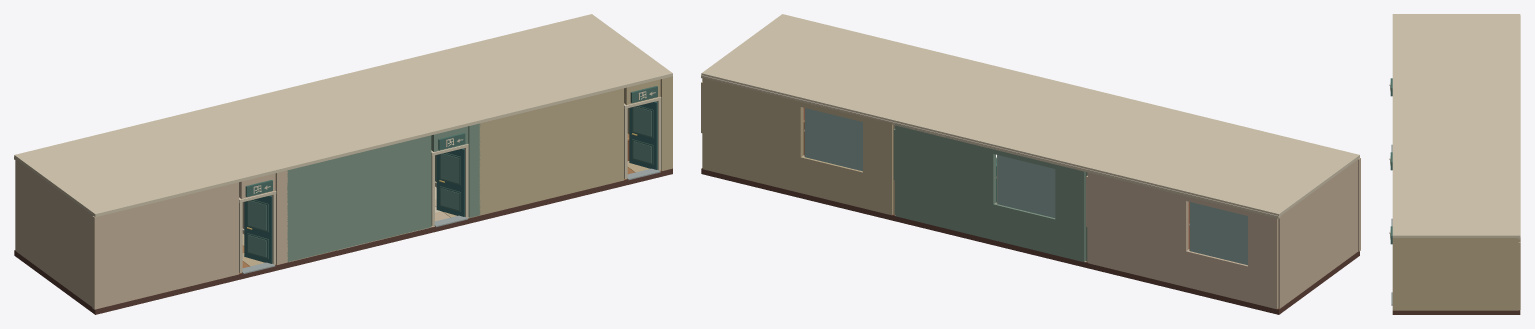
The model's file is building-floor-2.glb.
3 views of the same model, side by side, from view 1: azimuth 30°, elevation 25°; view 2: azimuth 150°, elevation 25°; view 3: azimuth 270°, elevation 25° (orthographic). The views are drawn at different scales.
Parts seen in each view (by area): view 1: cutaway_ceiling_f2_living, cutaway_ceiling_f2_kitchen, cutaway_ceiling_f2_bedroom, cutaway_front_f2_living, cutaway_front_f2_bedroom, cutaway_front_f2_kitchen, architecture_f2_living, architecture_f2_kitchen, architecture_f2_bedroom, intact_f2_bedroom_door, intact_f2_living_door, intact_f2_kitchen_door; view 2: architecture_f2_living, architecture_f2_bedroom, architecture_f2_kitchen, cutaway_ceiling_f2_living, cutaway_ceiling_f2_kitchen, cutaway_ceiling_f2_bedroom; view 3: cutaway_ceiling_f2_bedroom, architecture_f2_bedroom, cutaway_ceiling_f2_living, cutaway_ceiling_f2_kitchen, cutaway_front_f2_bedroom.
Part boxes in pixels (x1,y1,x2,y2): cutaway_ceiling_f2_living: [14, 108, 287, 217]; cutaway_ceiling_f2_kitchen: [207, 61, 480, 169]; cutaway_ceiling_f2_bedroom: [400, 14, 672, 123]; cutaway_front_f2_living: [92, 170, 287, 309]; cutaway_front_f2_bedroom: [479, 76, 672, 215]; cutaway_front_f2_kitchen: [287, 123, 480, 262]; architecture_f2_living: [14, 156, 287, 314]; architecture_f2_kitchen: [288, 135, 480, 267]; architecture_f2_bedroom: [480, 88, 672, 220]; intact_f2_bedroom_door: [629, 101, 657, 169]; intact_f2_living_door: [244, 195, 272, 263]; intact_f2_kitchen_door: [436, 148, 464, 216]; architecture_f2_living: [1086, 160, 1359, 314]; architecture_f2_bedroom: [701, 75, 894, 220]; architecture_f2_kitchen: [893, 122, 1087, 267]; cutaway_ceiling_f2_living: [1086, 108, 1359, 216]; cutaway_ceiling_f2_kitchen: [894, 61, 1166, 168]; cutaway_ceiling_f2_bedroom: [701, 14, 974, 121]; cutaway_ceiling_f2_bedroom: [1392, 161, 1520, 237]; architecture_f2_bedroom: [1391, 163, 1520, 314]; cutaway_ceiling_f2_living: [1392, 14, 1520, 87]; cutaway_ceiling_f2_kitchen: [1392, 88, 1520, 161]; cutaway_front_f2_bedroom: [1392, 238, 1395, 310].
Size of what is drawn, in the model's own units: 19.95 by 3.32 by 4.99.
